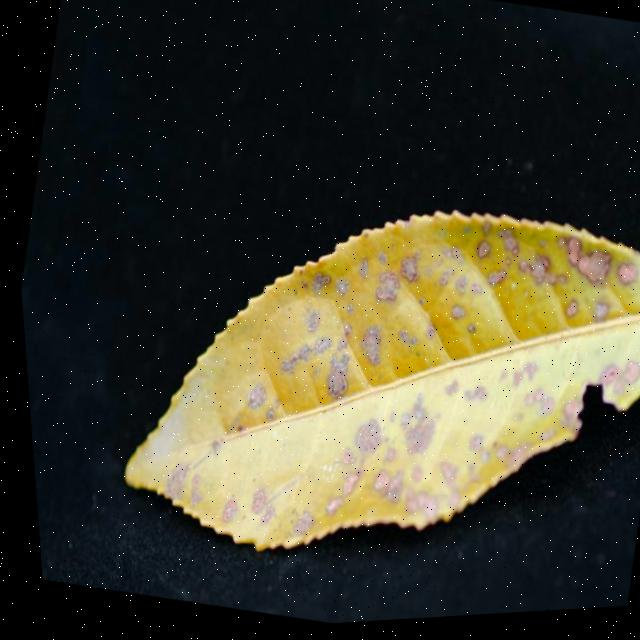Tea red rust: (98, 155, 640, 618)
